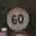limite 60: (5, 6, 30, 31)
